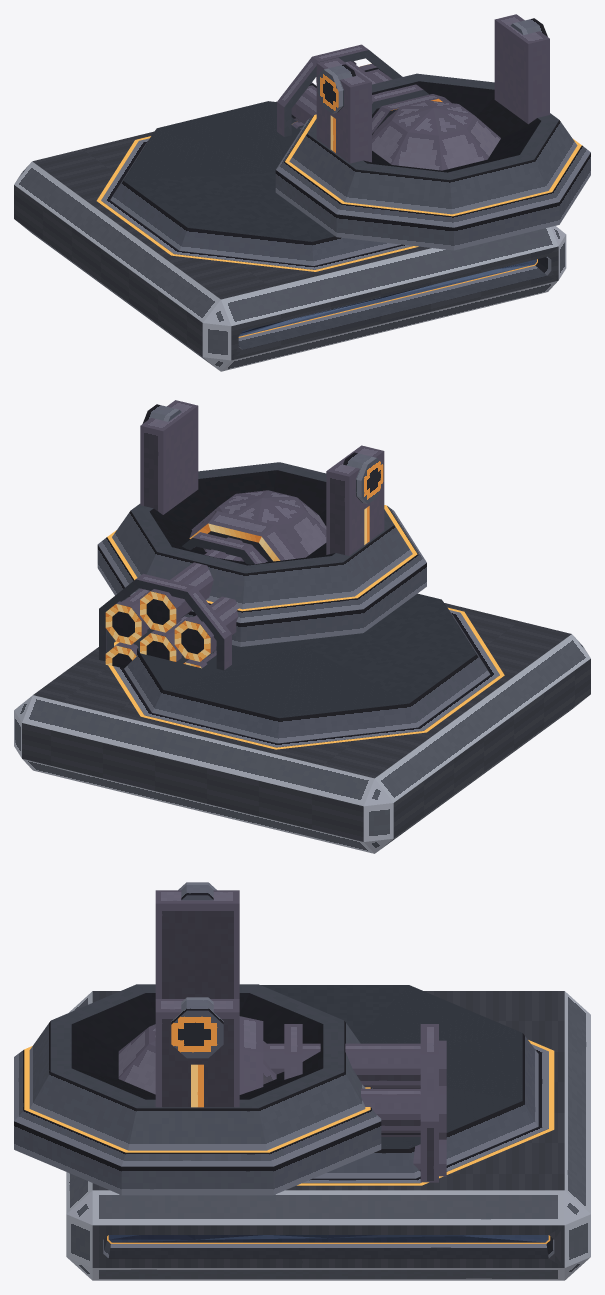
Rendered from marlit_mortar.glb.
3 renders of one model, top to bottom at view 1: azimuth 30°, elevation 25°; view 2: azimuth 150°, elevation 25°; view 3: azimuth 270°, elevation 25°, orthographic. The views are drawn at different scales.
Parts seen in each view (by area): view 1: marlit_mortar_base, marlit_mortar_yaw, marlit_mortar_head; view 2: marlit_mortar_base, marlit_mortar_yaw, marlit_mortar_head; view 3: marlit_mortar_base, marlit_mortar_yaw, marlit_mortar_head.
Part boxes in pixels (box(x1,y1,x2,y2)): marlit_mortar_base: box(14, 101, 566, 371); marlit_mortar_yaw: box(275, 14, 590, 250); marlit_mortar_head: box(277, 44, 500, 170); marlit_mortar_base: box(14, 593, 590, 853); marlit_mortar_yaw: box(97, 400, 426, 646); marlit_mortar_head: box(99, 490, 326, 670); marlit_mortar_base: box(66, 985, 590, 1280); marlit_mortar_yaw: box(14, 882, 381, 1195); marlit_mortar_head: box(118, 1016, 446, 1182).
Bounding box in the file's own units: 2.2 × 1.22 × 2.2.
Materials: 1 (1 with a texture image).
